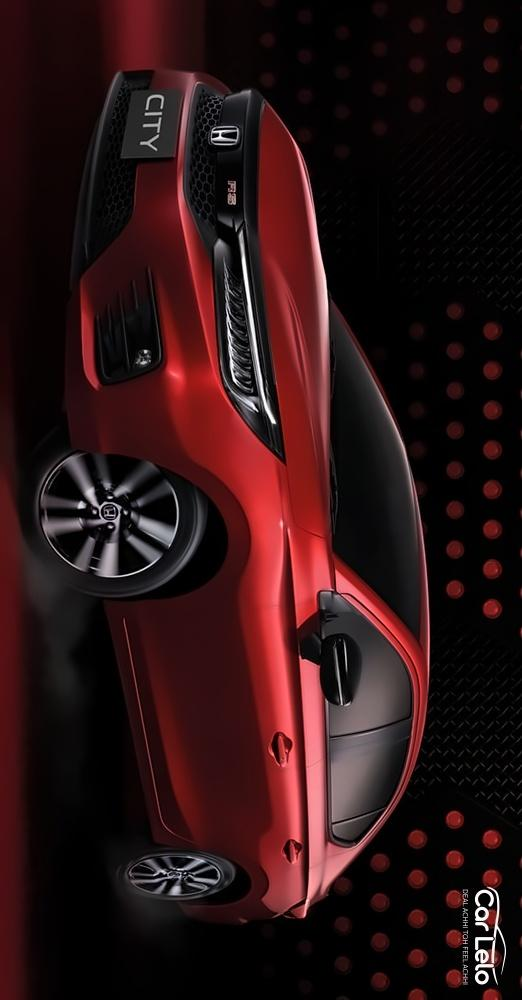Car hood: (247, 107, 337, 537)
Fender - -F-L-: (49, 414, 353, 643)
Fender - -R-L-: (140, 822, 356, 928)
Front bumper: (59, 55, 221, 474)
Headlight - -L-: (204, 215, 284, 452)
Passenger-s door - -F-L-: (54, 567, 436, 768)
Passenger-s door - -R-L-: (84, 709, 433, 876)
Side bumper - -L-: (92, 592, 217, 858)
Side mirror - -L-: (297, 599, 365, 708)
